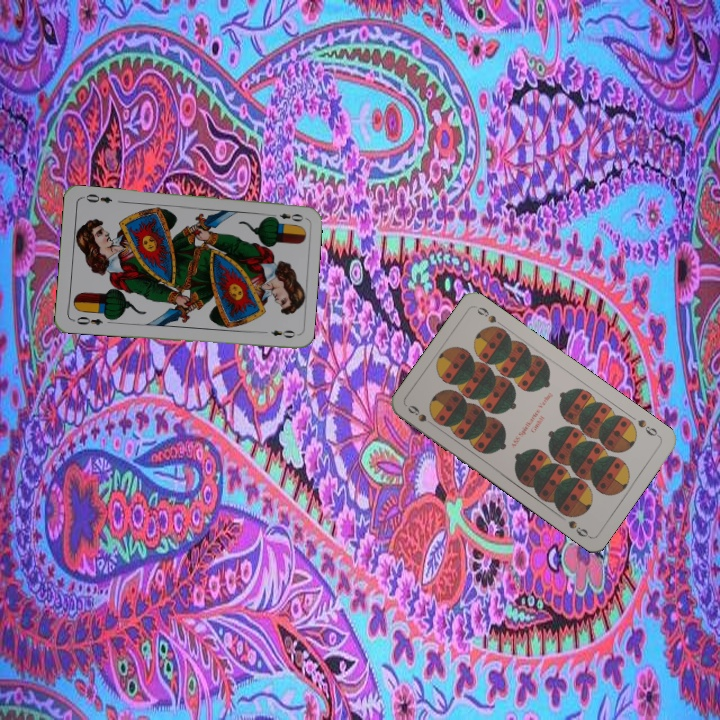EO: (266, 209, 306, 224), (69, 312, 105, 328)
S9: (403, 401, 441, 430), (634, 415, 663, 440)
